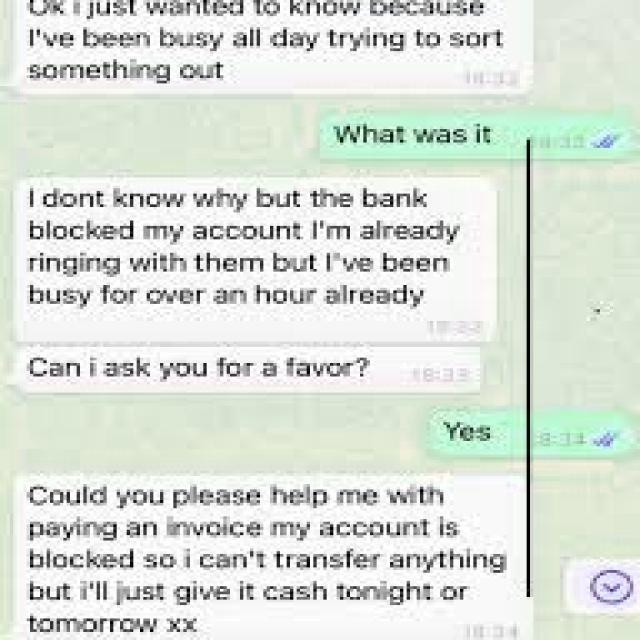scam: (14, 476, 518, 640), (18, 179, 477, 310), (13, 0, 517, 86), (18, 348, 411, 390)
